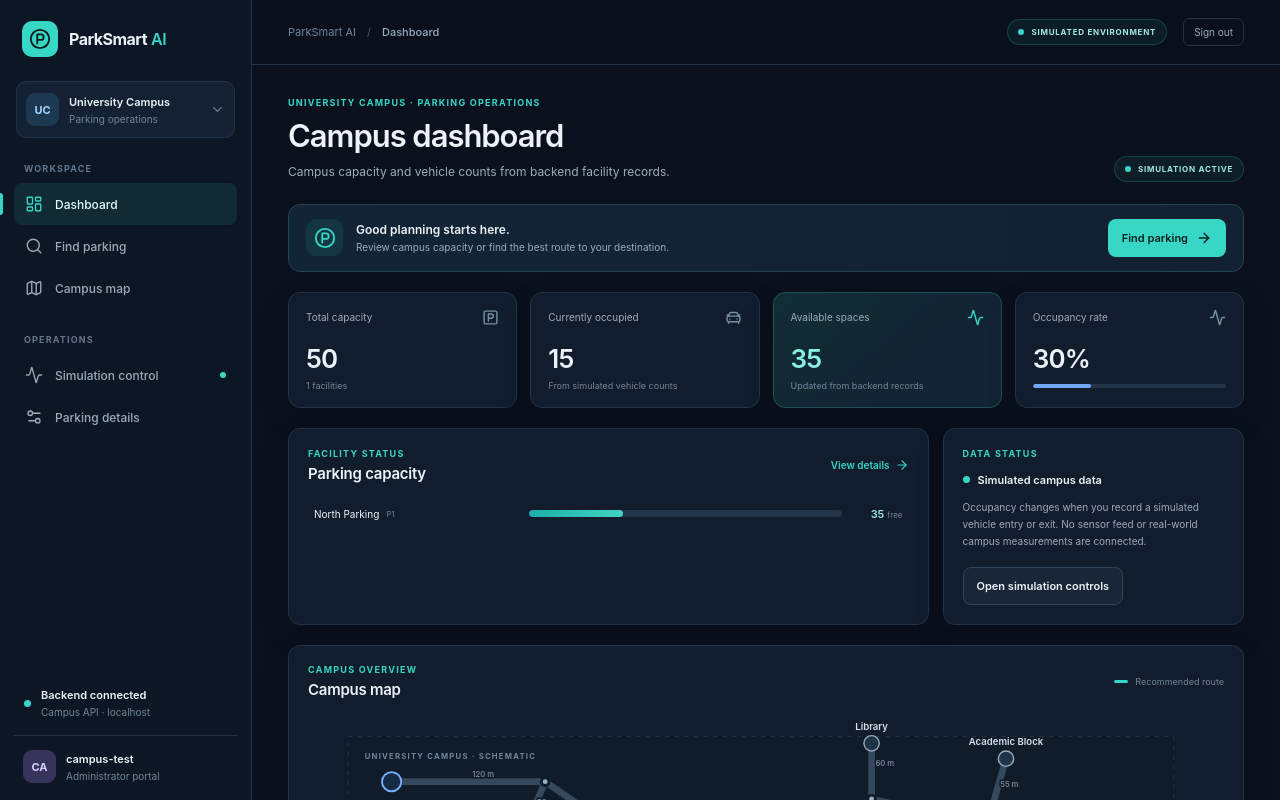
ParkSmart campus dashboard › posts a vehicle exit and displays backend rejection feedback
The width and height of the screenshot is (1280, 800).
Check: the text "Backend connected" is shown, box top-left (41, 688), bottom-right (146, 702)
Click the button "Simulation control" at (126, 375), box top-left (14, 354), bottom-right (237, 396)
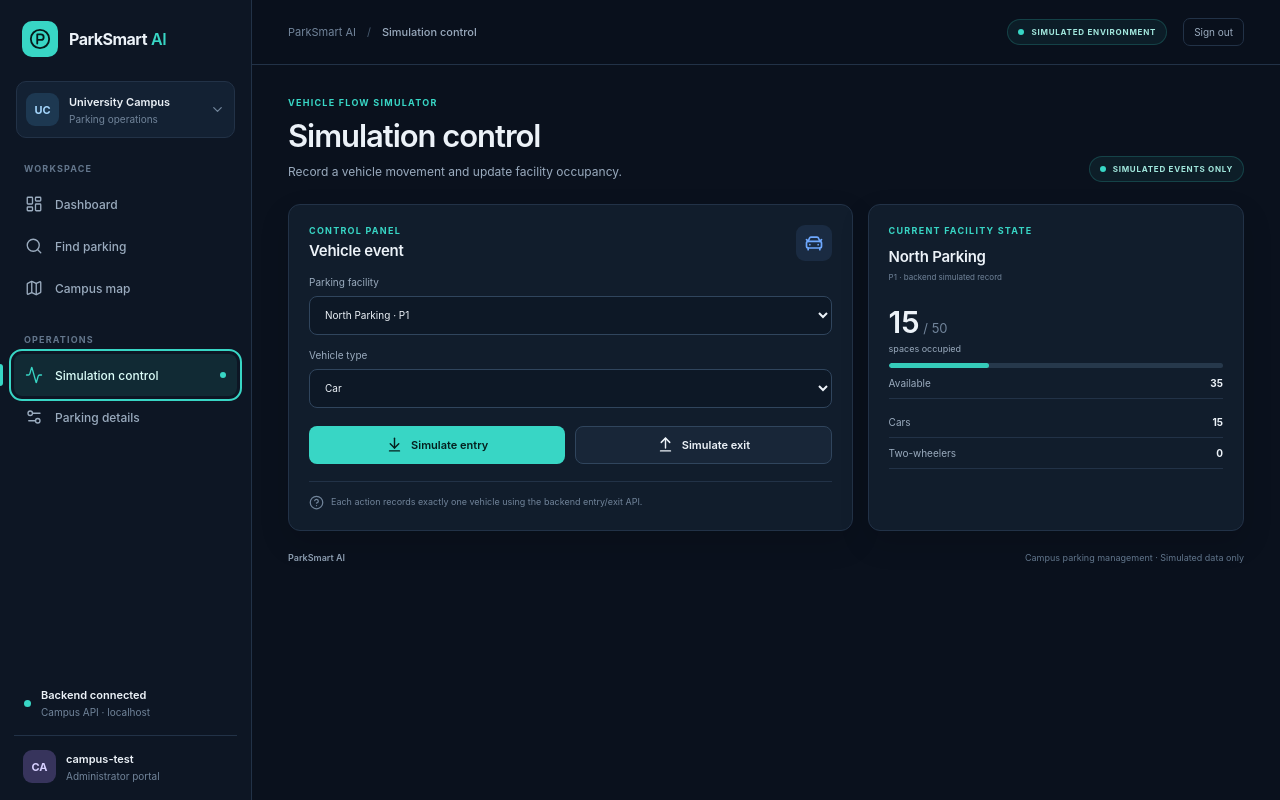
Click the button "Simulate exit" at (703, 445), box top-left (575, 426), bottom-right (832, 464)
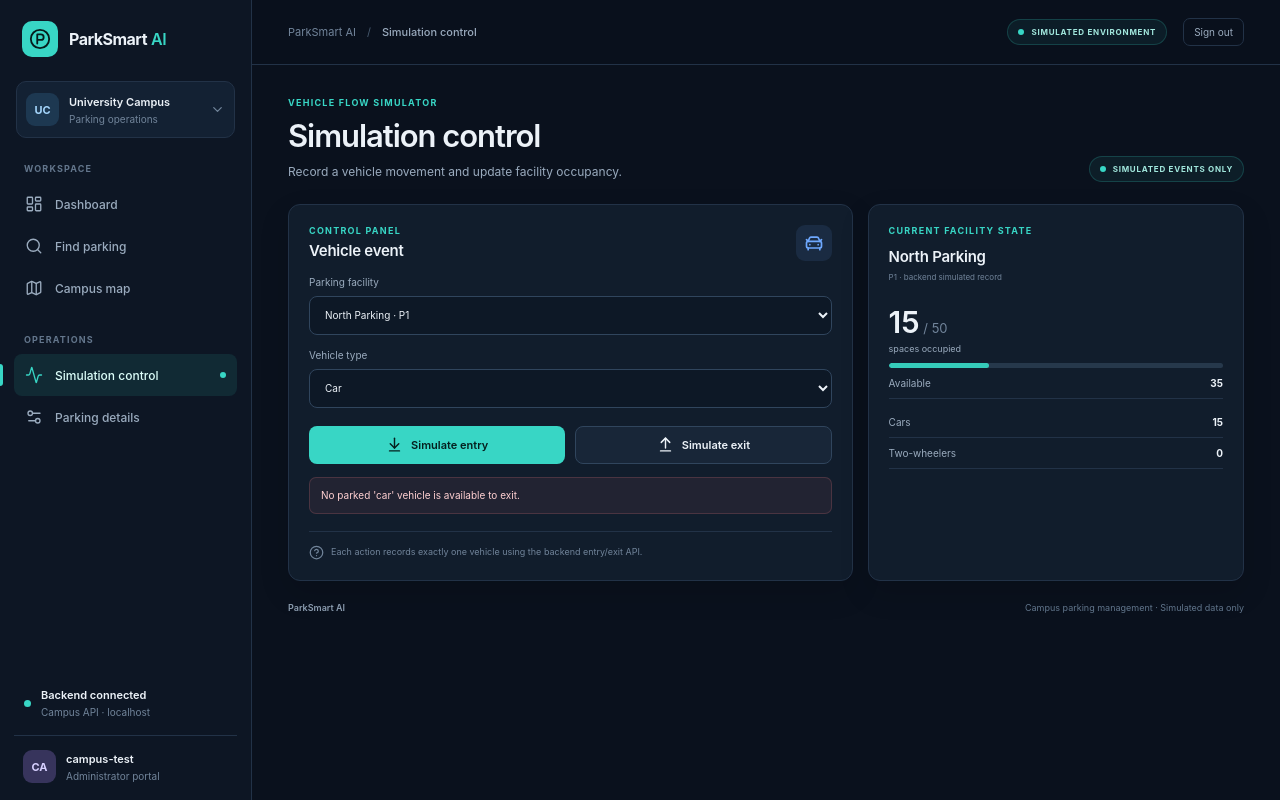
Check: the message shows "No parked 'car' vehicle", box top-left (321, 489), bottom-right (520, 501)
